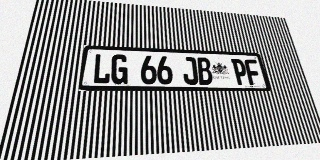6: (156, 56, 173, 84), (141, 55, 157, 84)
B: (196, 57, 214, 85)
F: (244, 59, 262, 85)
G: (110, 54, 128, 84)
J: (182, 57, 199, 85)
L: (92, 54, 111, 84)
P: (231, 59, 249, 85)
